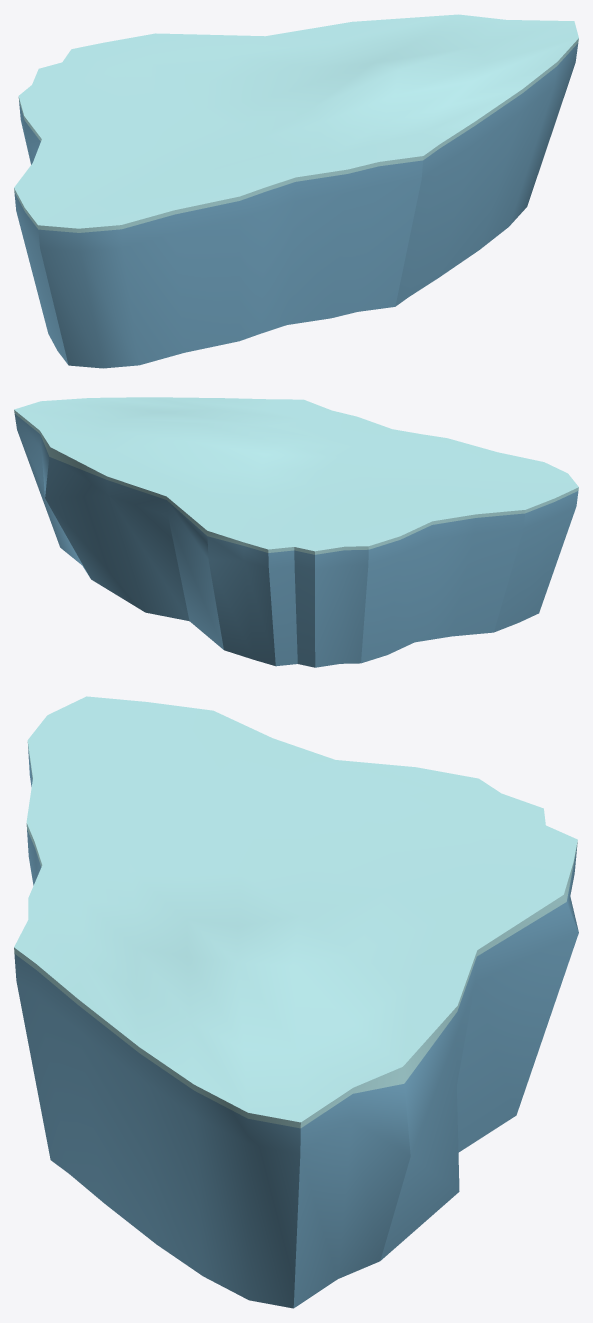
The model's file is iceberg3.fbx.
3 renders of one model, top to bottom at view 1: azimuth 30°, elevation 25°; view 2: azimuth 150°, elevation 25°; view 3: azimuth 270°, elevation 25°, orthographic. The views are drawn at different scales.
Visible parts, largest first — view 1: icebergthree; view 2: icebergthree; view 3: icebergthree.
Boxes of the visible parts, left/top/right/bottom form: icebergthree: left=14, top=14, right=578, bottom=368; icebergthree: left=14, top=397, right=578, bottom=667; icebergthree: left=14, top=696, right=578, bottom=1308.
Size of the model in its own units: 3883 by 1042 by 2176.
